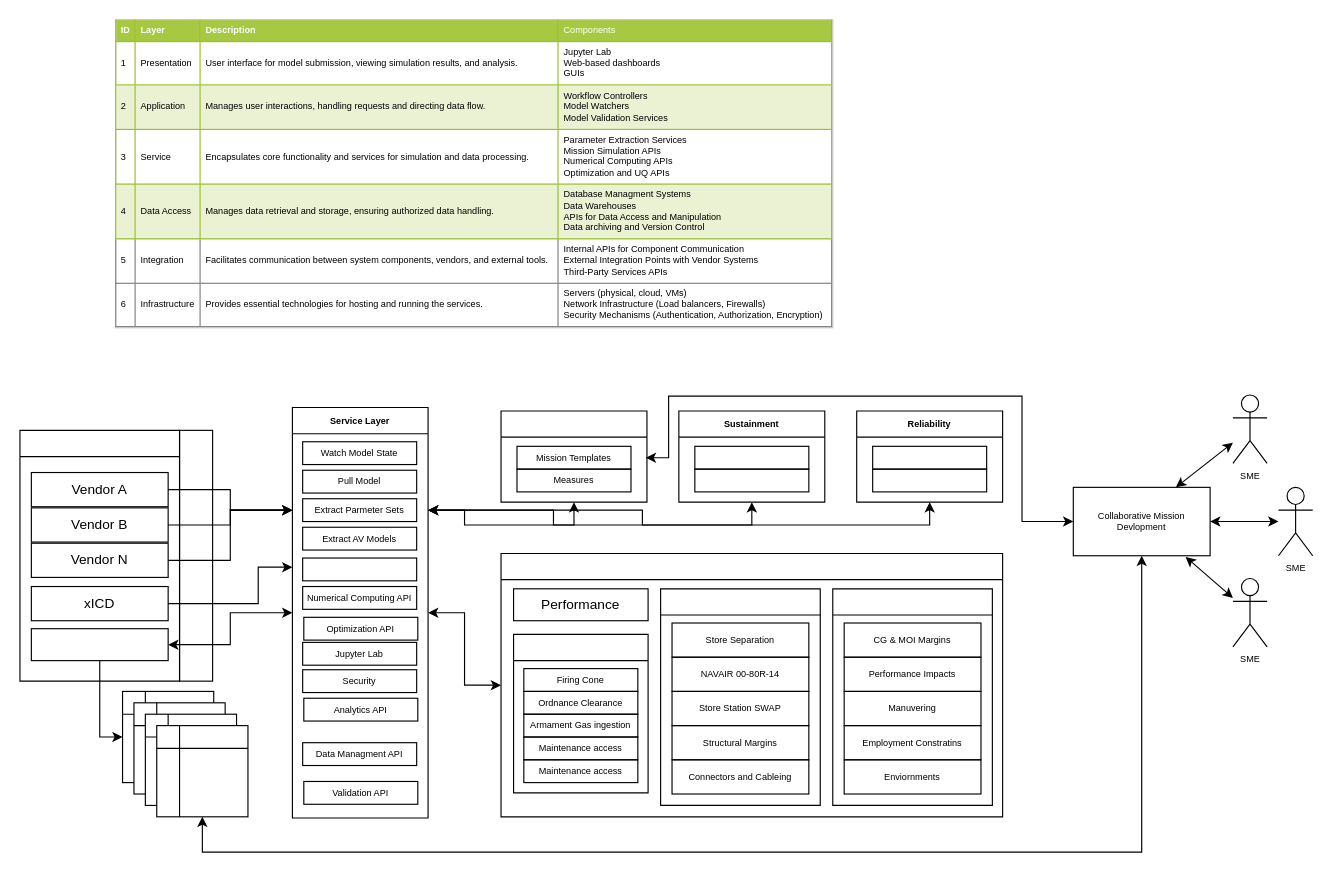
This 1333x882 diagram has some shape labels left out. The shapes that lost their labels are listed below. From the top down, each one's box as (x1, y1, x2, y2) in pixels, then its label:
(500, 410, 647, 502): Mission Simulation
(19, 429, 180, 681): TWC
(178, 429, 213, 681): API
(302, 557, 417, 581): Mission Simulation API
(30, 628, 168, 661): ADT Model
(659, 588, 820, 805): Physical
(500, 552, 1003, 817): ADT Analysis
(832, 588, 992, 805): General
(512, 633, 648, 793): MIL-STD-1289
(156, 724, 248, 817): Trade N...
